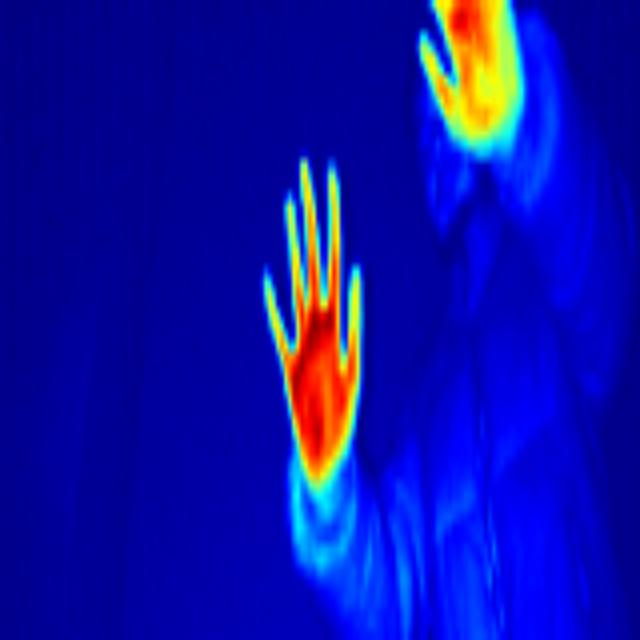hand: (252, 138, 388, 503), (404, 0, 548, 160)
